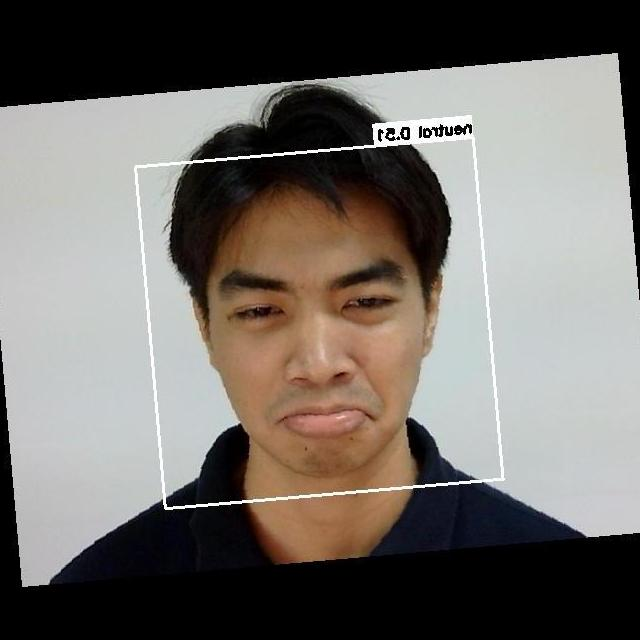Sad: (203, 235, 435, 464)
